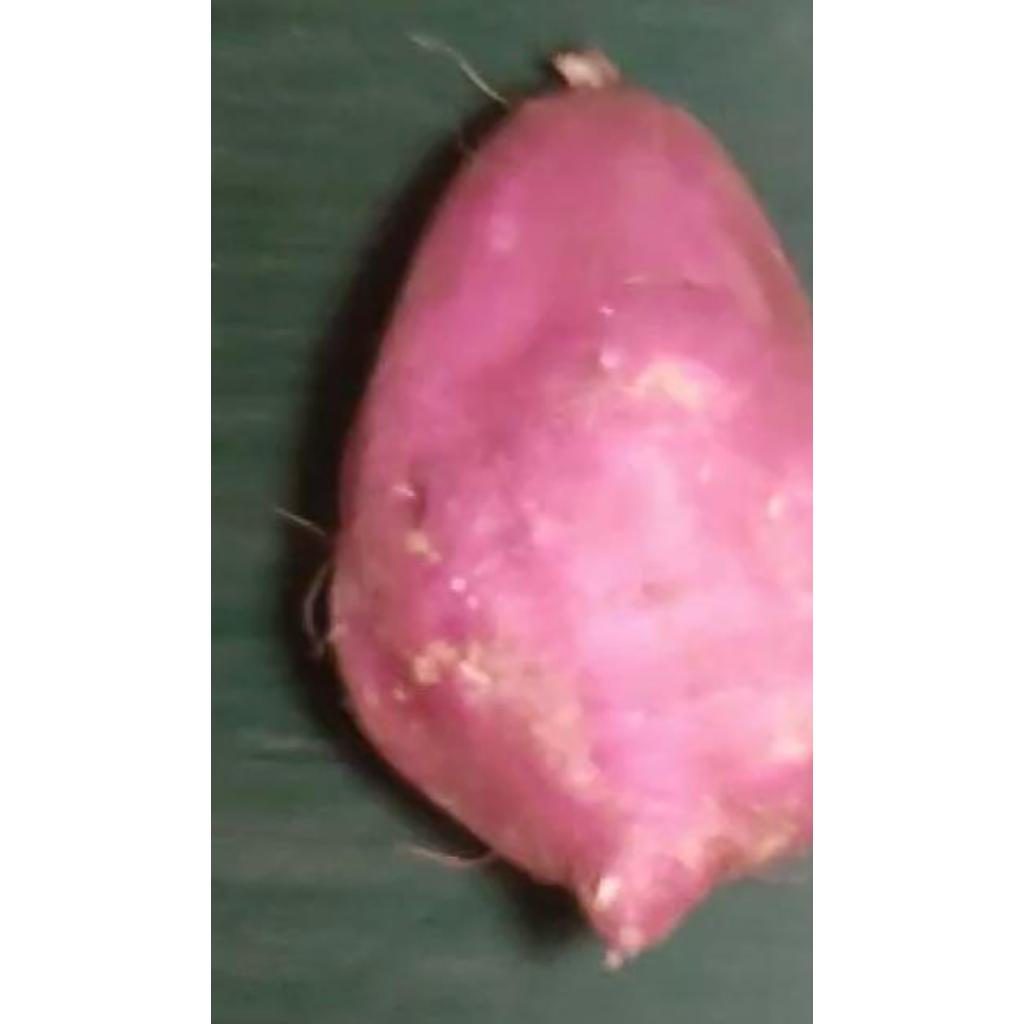Sweet Potato: (327, 84, 813, 961)
